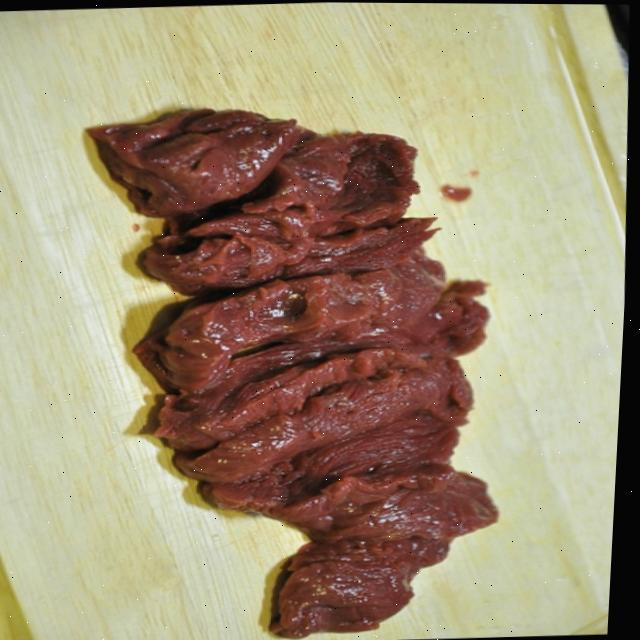刺身生食: (50, 71, 580, 640)
